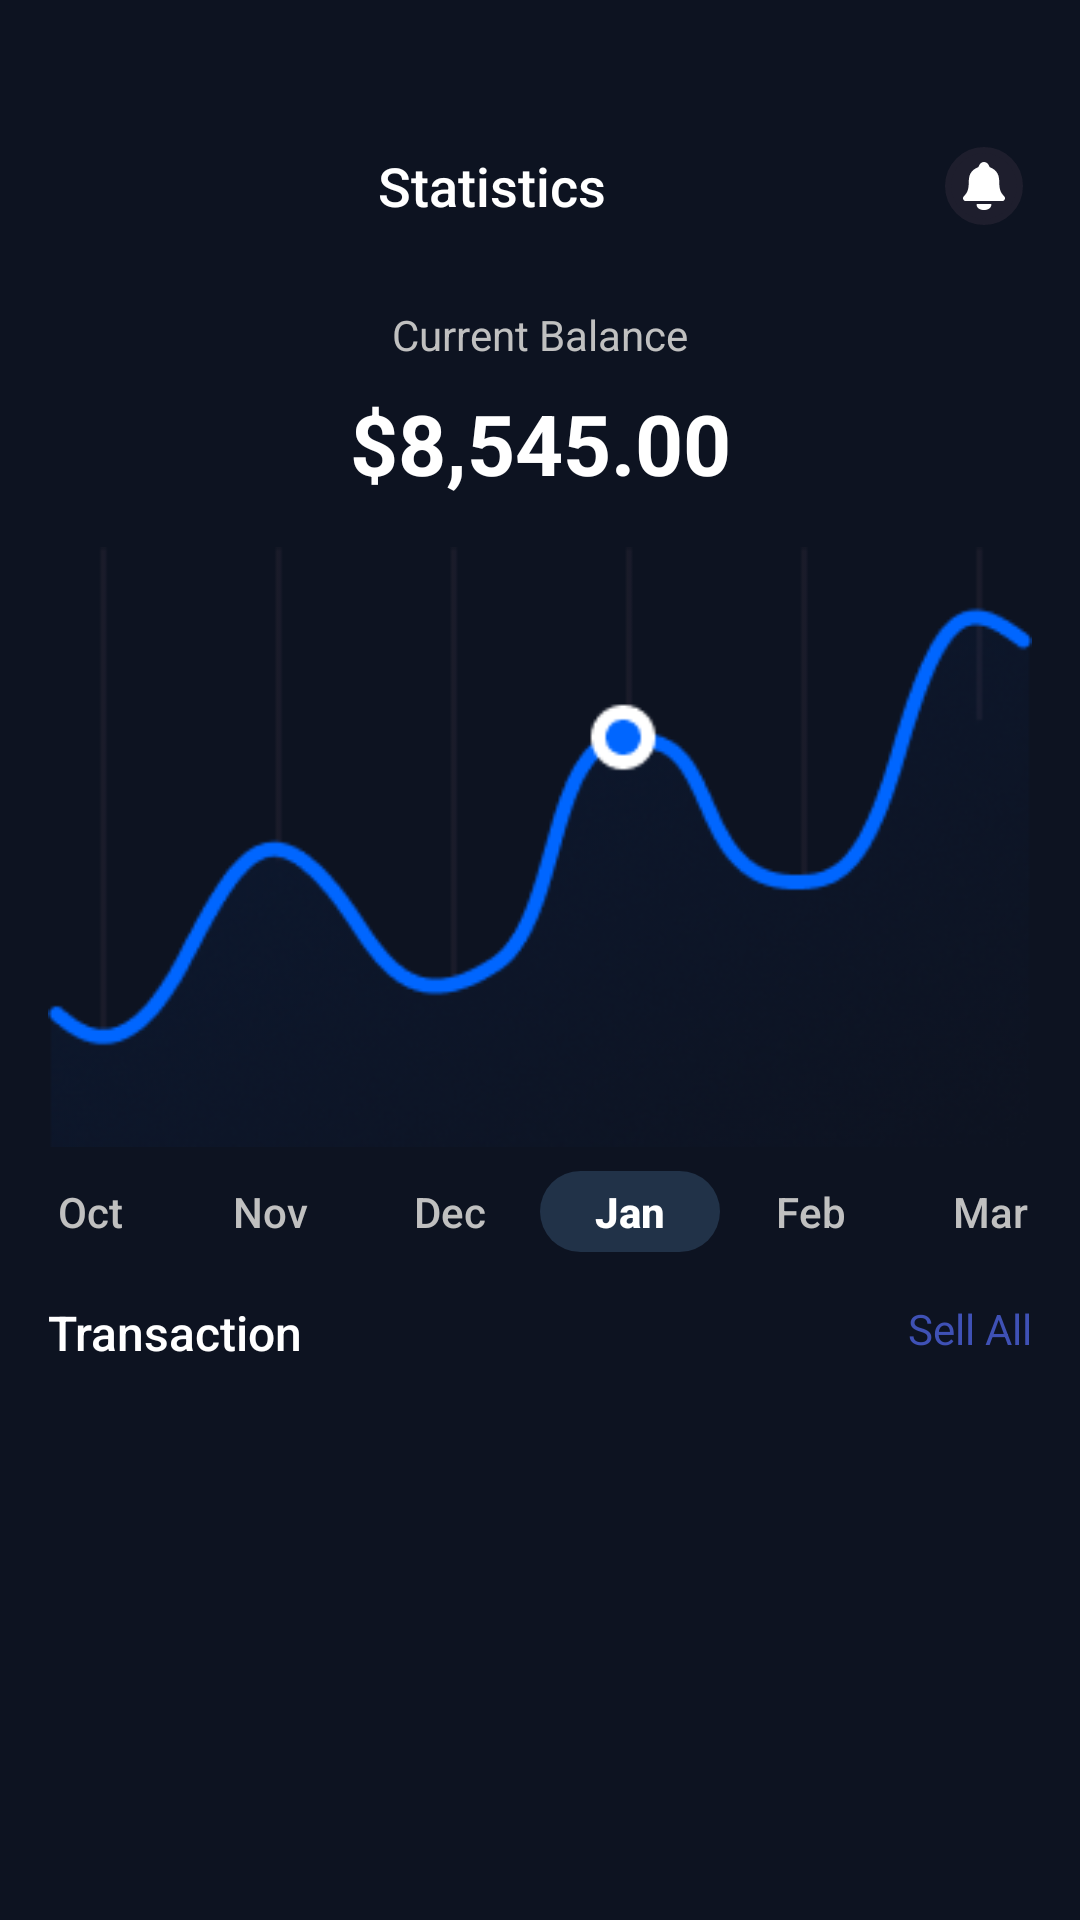

Where to tap for icons on this 1080 x 1920 app screen, as (x,y):
notifications circle: (984,186)
